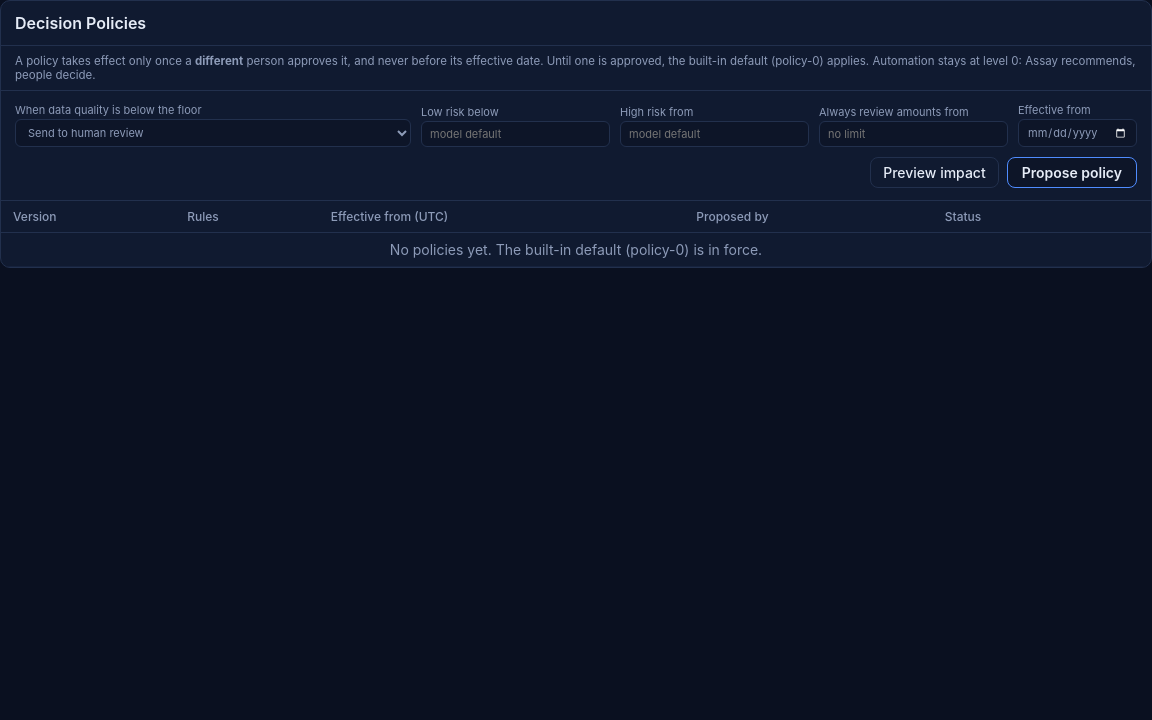
Test: PolicyPanel preview › previews the form as typed and shows the change in review volume
The width and height of the screenshot is (1152, 720).
expect the text "No policies yet" is shown: met, box [390,241,762,258]
Type "5000" into the field labelled "Always review amounts from" at [914, 134], box [819,121,1008,147]
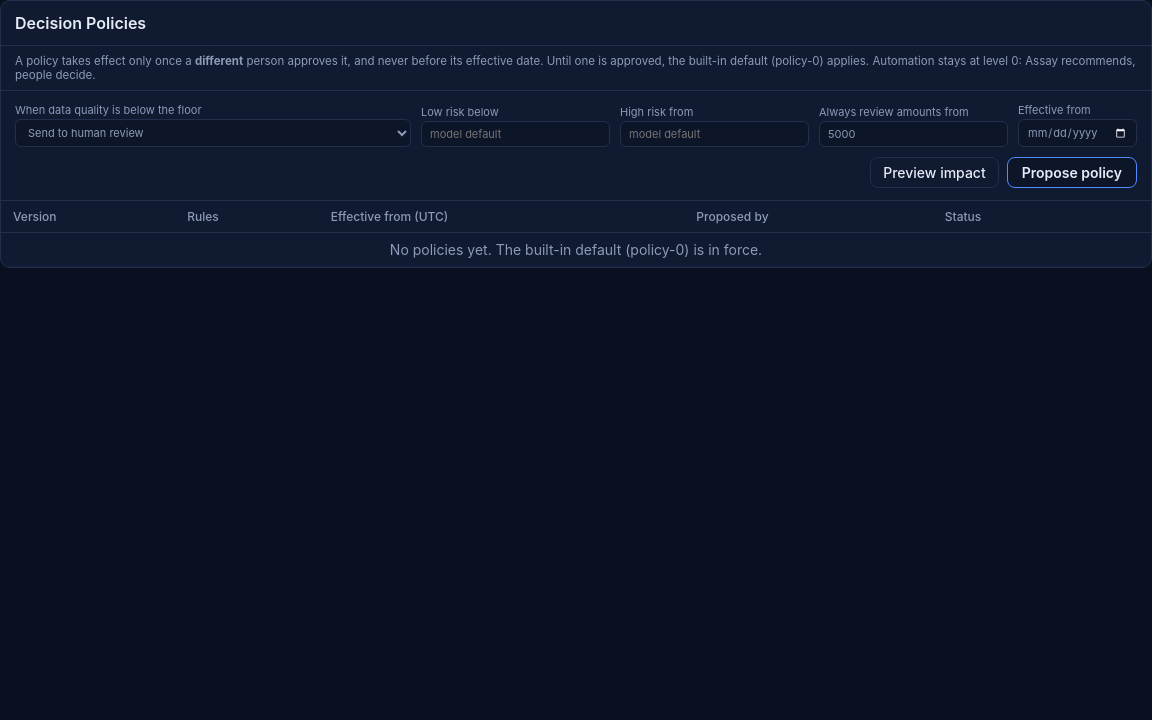
Click the button "Preview impact" at [934, 172], box [870,157,999,188]
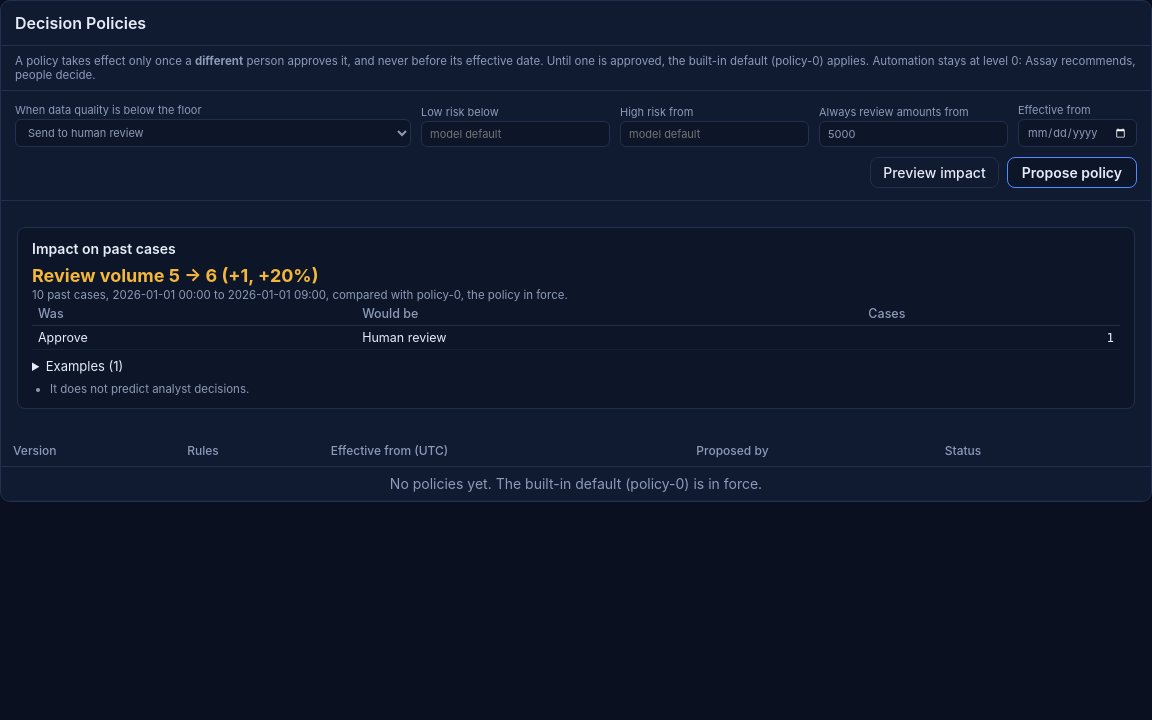
expect the element with test id "policy-preview" shows "10 past cases": met, box [17,227,1135,409]
expect the element with test id "policy-preview" shows "compared with policy-0, the policy in force": met, box [17,227,1135,409]
expect the element with test id "policy-preview" shows "It does not predict analyst decisions.": met, box [50,382,249,396]
